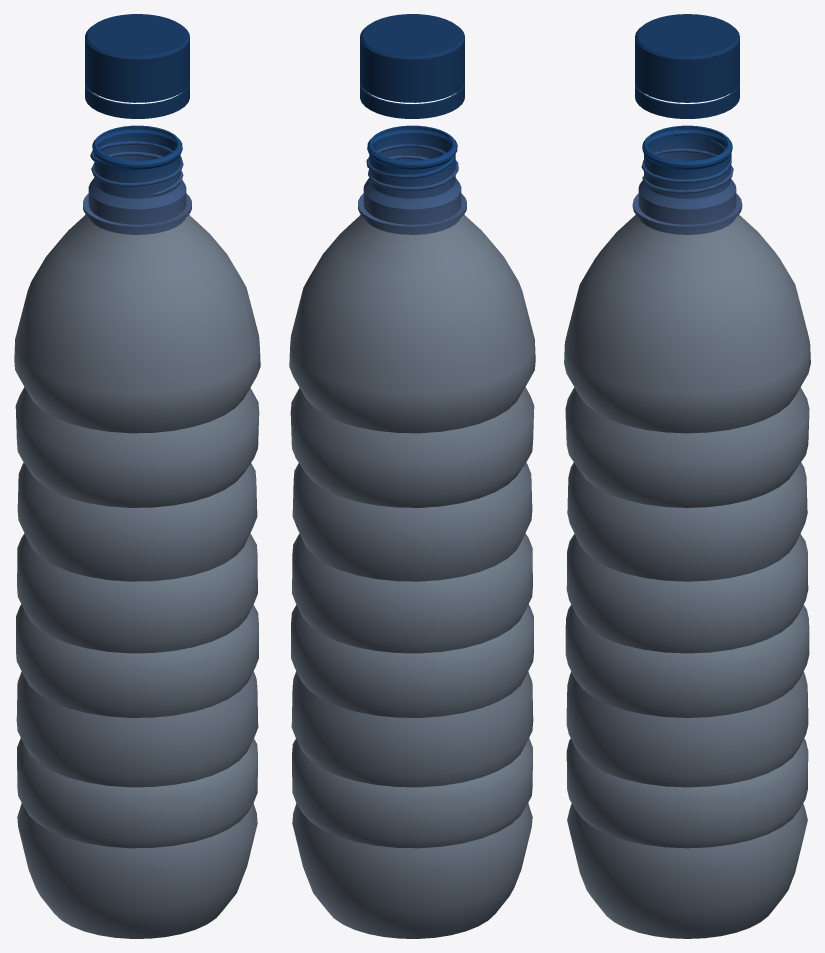
3 views of the same model, side by side, from view 1: azimuth 30°, elevation 25°; view 2: azimuth 150°, elevation 25°; view 3: azimuth 270°, elevation 25° (orthographic).
Parts seen in each view (by area): view 1: Cylinder.000 (×2); view 2: Cylinder.000 (×2); view 3: Cylinder.000 (×2).
Boxes of the visible parts, x1,y1,x2,y2 form: Cylinder.000 (×2): (14,14,260,938); Cylinder.000 (×2): (289,14,535,938); Cylinder.000 (×2): (564,14,810,938).
Size of the model in its own units: 0.5128 by 2 by 0.5128.
